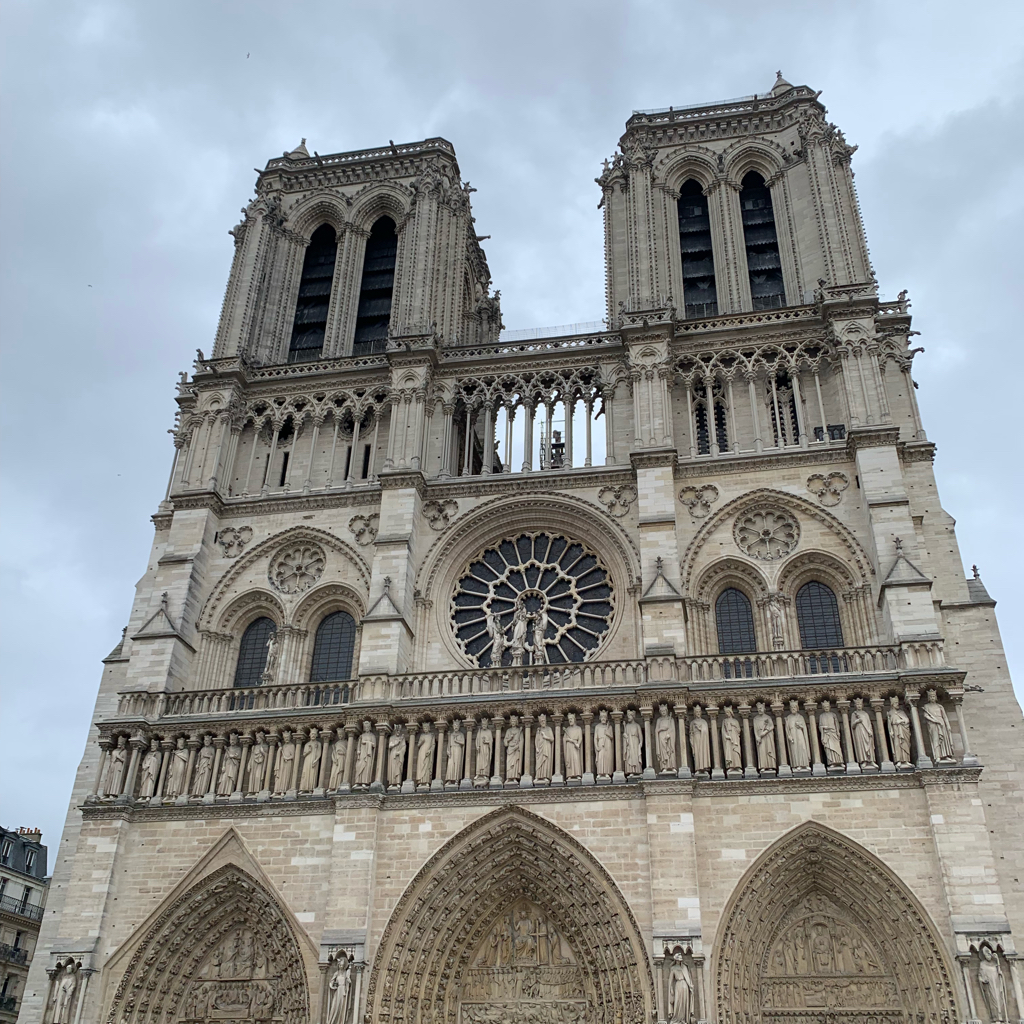arco-apuntado: (366, 798, 656, 986), (704, 814, 965, 997), (106, 855, 315, 1024), (680, 483, 875, 601), (199, 519, 370, 631), (724, 146, 786, 191), (294, 201, 345, 247), (663, 155, 719, 196), (355, 192, 409, 233)
